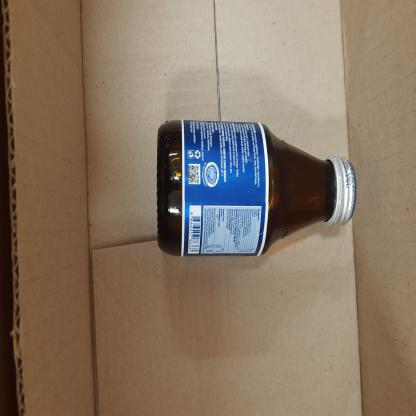keyboard: (157, 113, 357, 272)
